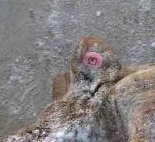text: (76, 45, 110, 76)
